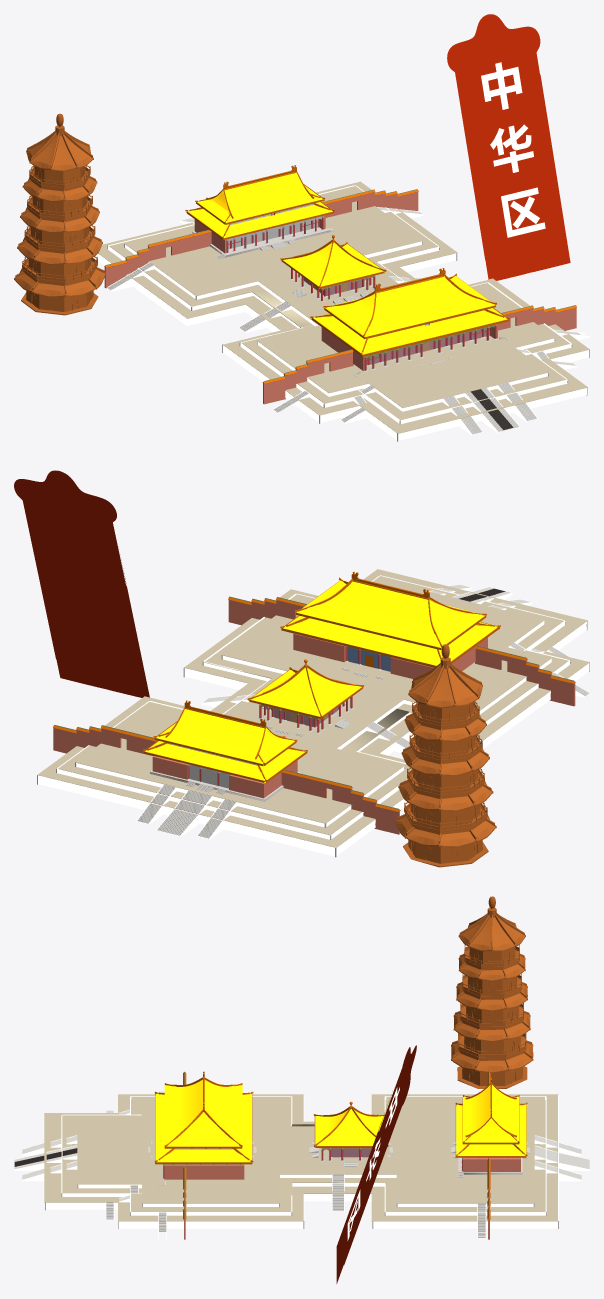
3 renders of one model, top to bottom at view 1: azimuth 30°, elevation 25°; view 2: azimuth 150°, elevation 25°; view 3: azimuth 270°, elevation 25°, orthographic. The views are drawn at different scales.
Visible parts, largest first — view 1: Rectangle02, 贝塞尔曲线.017, 古建筑, Rectangle05, Rectangle05.001, Line05, GN Instance, Line2237.001, Line1881.001, Shape03, Shape02, Shape04 (+11 smaller); view 2: Rectangle02, 贝塞尔曲线.017, 古建筑, Rectangle05, Rectangle05.001, Line05, Line2237.001, Line1881.001, Line3043, Shape03, Shape02, Shape04 (+15 smaller); view 3: Rectangle02, 古建筑, Rectangle05, Rectangle05.001, Line05, 贝塞尔曲线.017, Line2237.001, Line2115, Line2294, Line1881.001, Loft02, Rectangle06 (+12 smaller).
Boxes of the visible parts, x1,y1,x2,y2 form: Rectangle02: (124, 188, 554, 407); 贝塞尔曲线.017: (447, 14, 570, 280); 古建筑: (14, 113, 105, 315); Rectangle05: (98, 181, 589, 433); Rectangle05.001: (109, 186, 570, 420); Line05: (332, 276, 495, 336); GN Instance: (481, 62, 545, 237); Line2237.001: (198, 172, 322, 222); Line1881.001: (313, 310, 507, 354); Shape03: (104, 232, 211, 288); Shape02: (263, 352, 353, 404); Shape04: (325, 192, 418, 217); Rectangle02: (75, 580, 551, 823); 贝塞尔曲线.017: (14, 470, 149, 697); 古建筑: (395, 644, 496, 867); Rectangle05: (37, 569, 589, 847); Rectangle05.001: (58, 576, 568, 835); Line05: (296, 580, 477, 647); Line2237.001: (156, 709, 293, 765); Line1881.001: (283, 618, 497, 665); Line3043: (38, 775, 334, 856); Shape03: (281, 772, 399, 834); Shape02: (475, 649, 575, 706); Shape04: (53, 728, 156, 756); Rectangle02: (77, 1097, 534, 1203); 古建筑: (451, 896, 533, 1088); Rectangle05: (44, 1094, 557, 1221); Rectangle05.001: (62, 1096, 544, 1211); Line05: (164, 1079, 242, 1145); 贝塞尔曲线.017: (336, 1045, 416, 1283); Line2237.001: (463, 1085, 519, 1141); Line2115: (118, 1221, 303, 1228); Line2294: (373, 1221, 557, 1228); Line1881.001: (155, 1093, 251, 1160); Loft02: (167, 1112, 242, 1147); Rectangle06: (164, 1164, 244, 1179).
Bounding box in the file's own units: 3.75 × 1.73 × 4.12.
